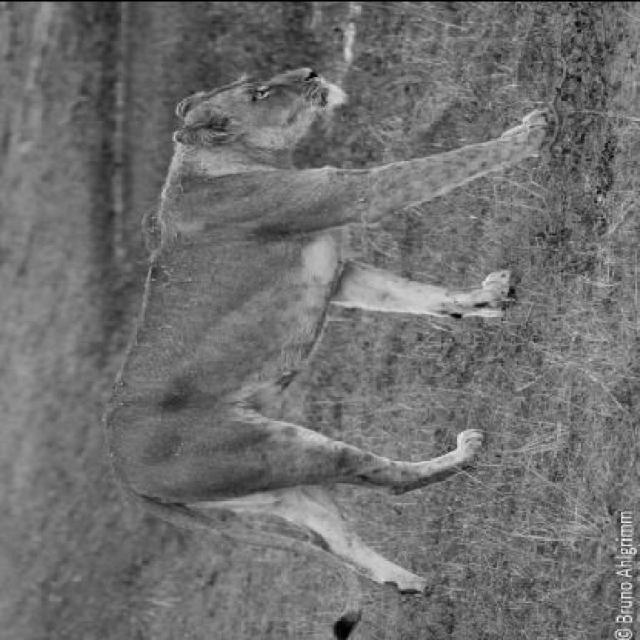Lion: (86, 68, 588, 589)
